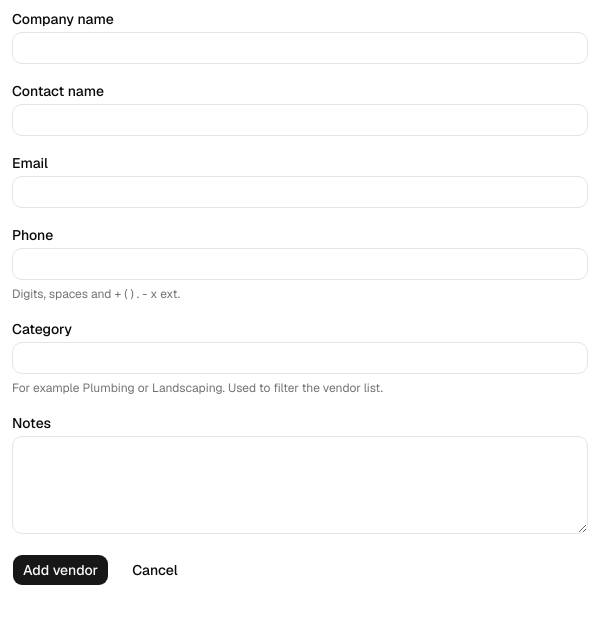
Test: VendorForm › maps 409 to a company name field error
Type "Acme" into the field labelled "Company name".
click(300, 48); type("Acme")  # box [12,32,588,64]
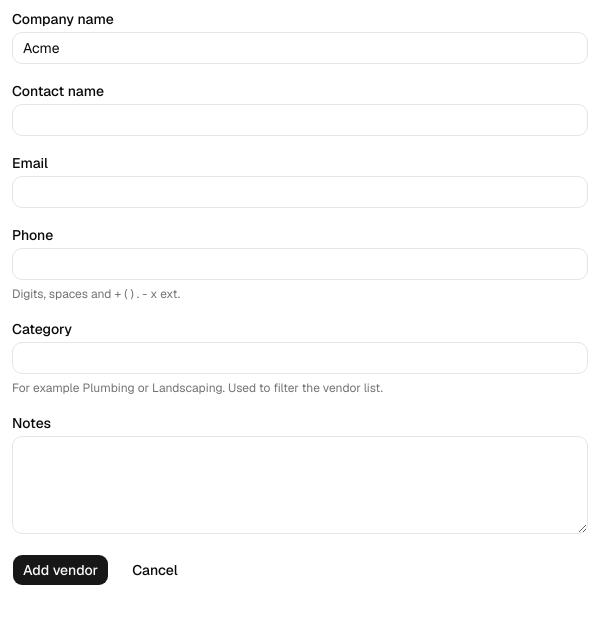
Click the button "Add vendor".
click(61, 570)  # box [12,554,109,586]
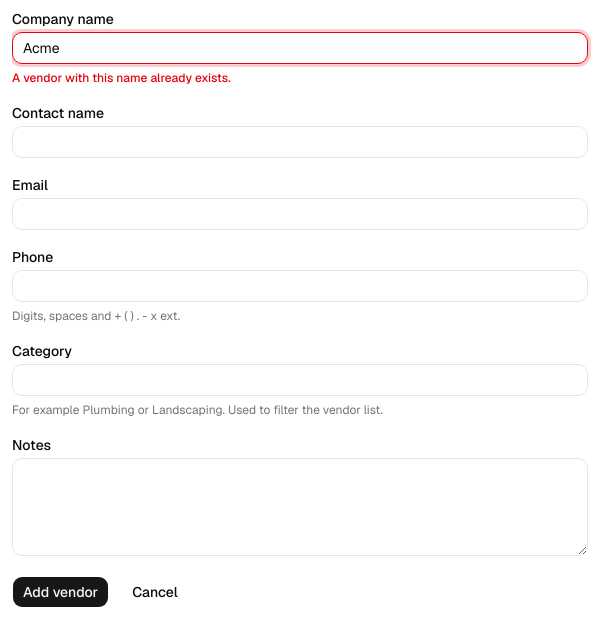
Expected: the text "A vendor with this name already exists." is shown, [12,70,231,86]
